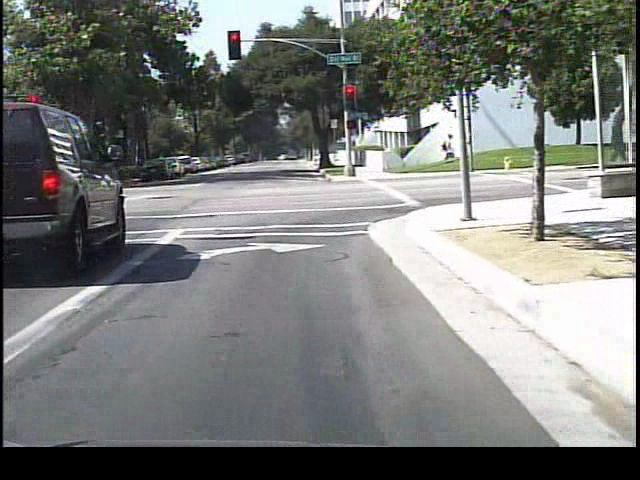person: (435, 127, 459, 161)
